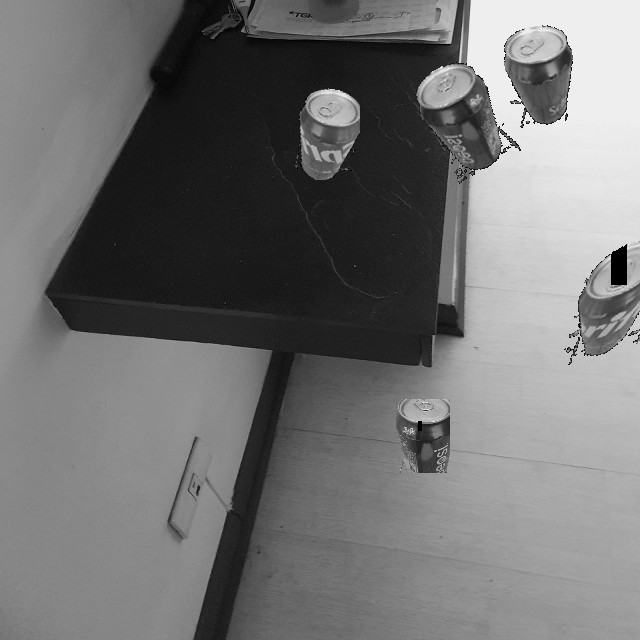pepsi: (406, 53, 521, 184), (396, 399, 450, 473)
schweppes: (501, 22, 580, 130)
sprite: (558, 230, 640, 369), (295, 85, 360, 180)
